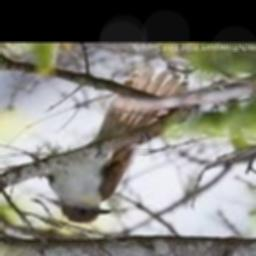Cuckoo: (47, 69, 189, 224)
